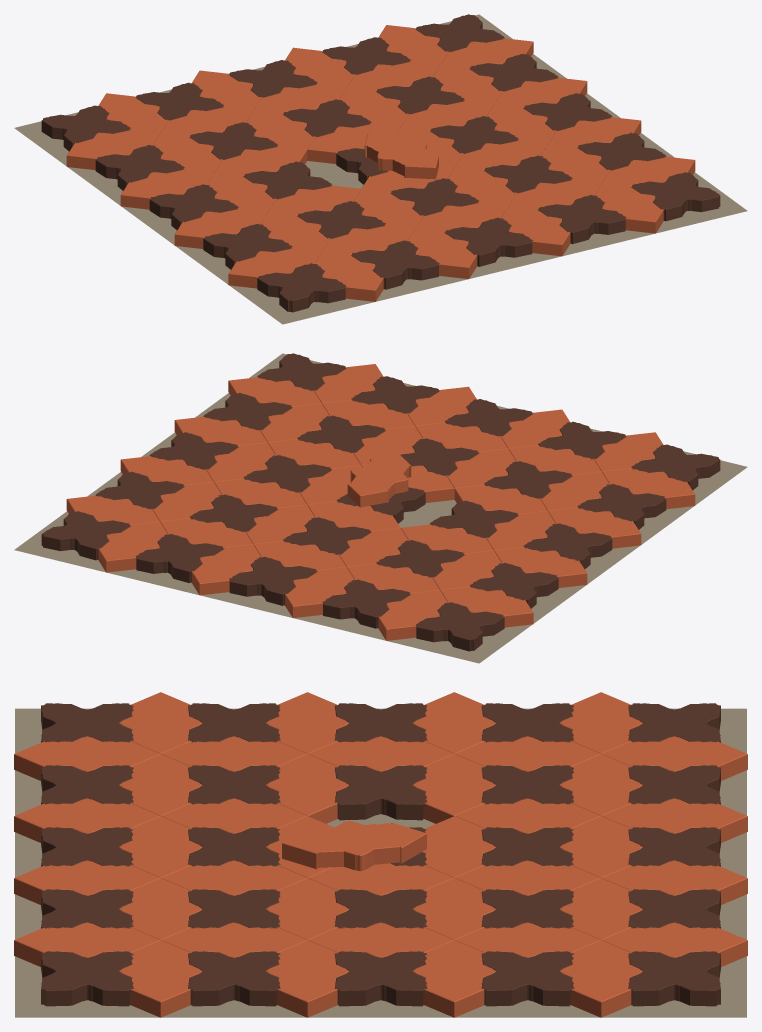
File: terilgan.glb
3 renders of one model, top to bottom at view 1: azimuth 30°, elevation 25°; view 2: azimuth 150°, elevation 25°; view 3: azimuth 270°, elevation 25°, orthographic. The views are drawn at different scales.
Parts seen in each view (by area): view 1: qum, t, t.021, t.056, t.042, t.028, t.014, t.029, t.043, t.001, t.015, t.012 (+54 smaller); view 2: qum, t.012, t.021, t.064, t.054, t.026, t.040, t.041, t.055, t.013, t.027, t (+54 smaller); view 3: qum, t.021, t.064, t.056, t.060, t.062, t.058, t.020, t.059, t.057, t.063, t.061 (+53 smaller).
Boxes of the visible parts, left/top/right/bottom form: qum: left=14, top=14, right=747, bottom=324; t: left=257, top=263, right=346, bottom=312; t.021: left=364, top=132, right=438, bottom=179; t.056: left=631, top=172, right=720, bottom=221; t.042: left=538, top=195, right=626, bottom=244; t.028: left=444, top=217, right=532, bottom=266; t.014: left=351, top=240, right=439, bottom=289; t.029: left=500, top=205, right=570, bottom=256; t.043: left=594, top=182, right=663, bottom=233; t.001: left=314, top=251, right=383, bottom=301; t.015: left=407, top=228, right=476, bottom=279; t.012: left=41, top=105, right=130, bottom=151; qum: left=14, top=353, right=747, bottom=663; t.012: left=415, top=602, right=504, bottom=651; t.021: left=347, top=453, right=411, bottom=507; t.064: left=41, top=511, right=130, bottom=560; t.054: left=135, top=534, right=223, bottom=583; t.026: left=322, top=579, right=410, bottom=628; t.040: left=229, top=556, right=317, bottom=605; t.041: left=191, top=544, right=261, bottom=595; t.055: left=98, top=521, right=167, bottom=572; t.013: left=378, top=590, right=447, bottom=640; t.027: left=285, top=567, right=354, bottom=618; t: left=631, top=444, right=720, bottom=490; qum: left=15, top=708, right=746, bottom=1017; t.021: left=282, top=820, right=426, bottom=871; t.064: left=628, top=951, right=720, bottom=1006; t.056: left=41, top=951, right=133, bottom=1006; t.060: left=334, top=951, right=427, bottom=1006; t.062: left=481, top=951, right=573, bottom=1006; t.058: left=188, top=951, right=280, bottom=1006; t.020: left=334, top=765, right=426, bottom=820; t.059: left=266, top=940, right=349, bottom=1017; t.057: left=119, top=940, right=202, bottom=1017; t.063: left=559, top=940, right=642, bottom=1017; t.061: left=413, top=940, right=495, bottom=1017.
Size of the model in its own units: 1.67 by 0.082 by 1.67.
